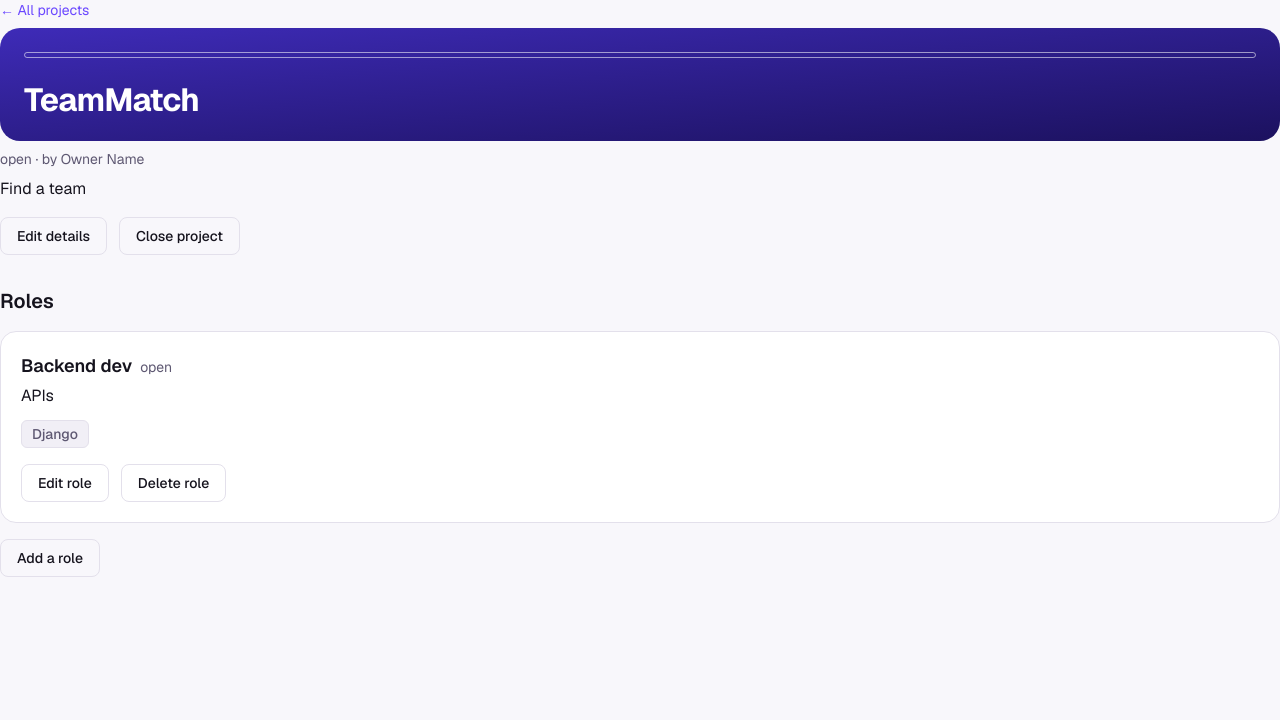
Scenario: shows the server's reason when a role can't be deleted
The width and height of the screenshot is (1280, 720).
Click the button "Delete role".
click(174, 483)  # box [121,464,226,502]
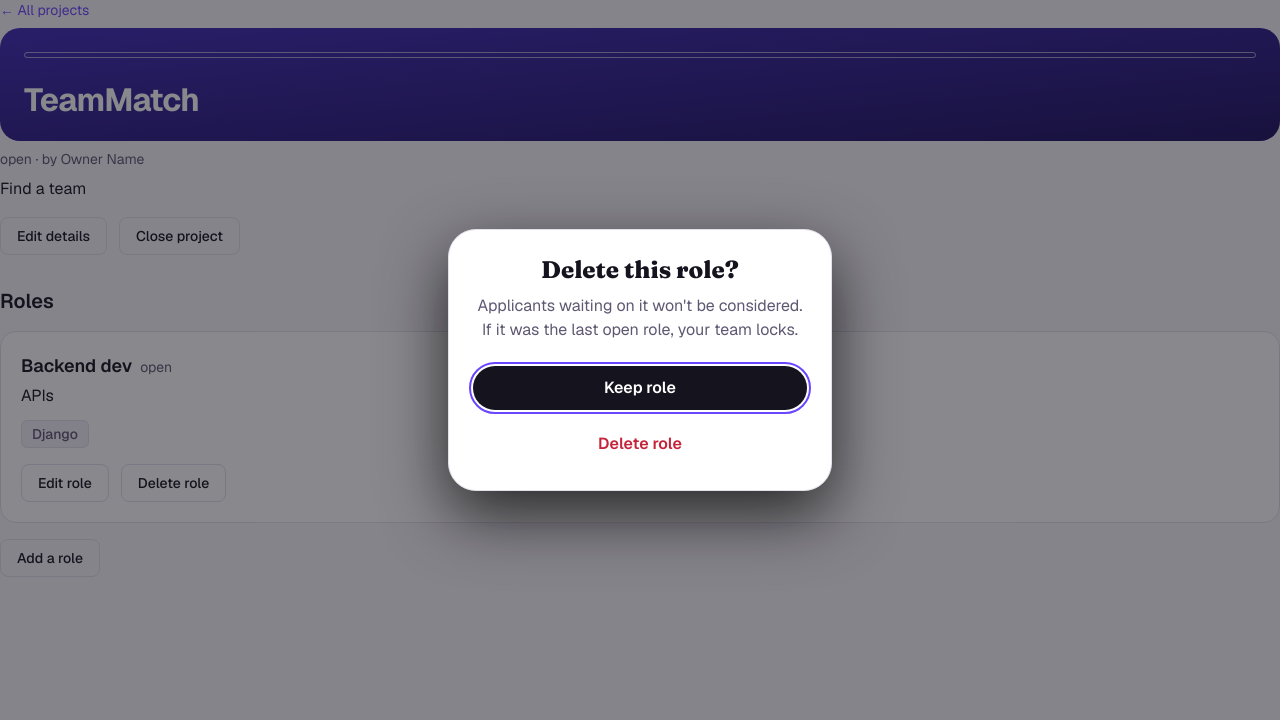
Click the button "Delete role".
click(640, 444)  # box [578,422,702,466]
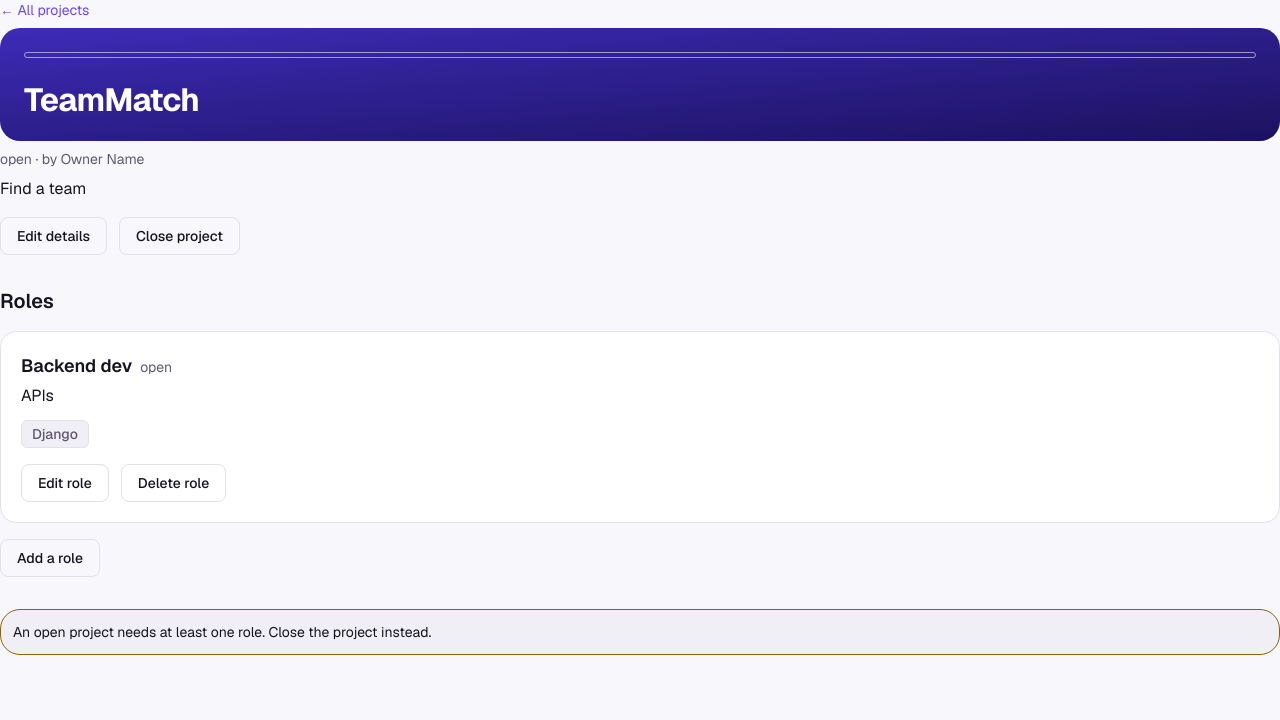
Expected: the message shows "An open project needs at least one role.", [13,623,431,641]
